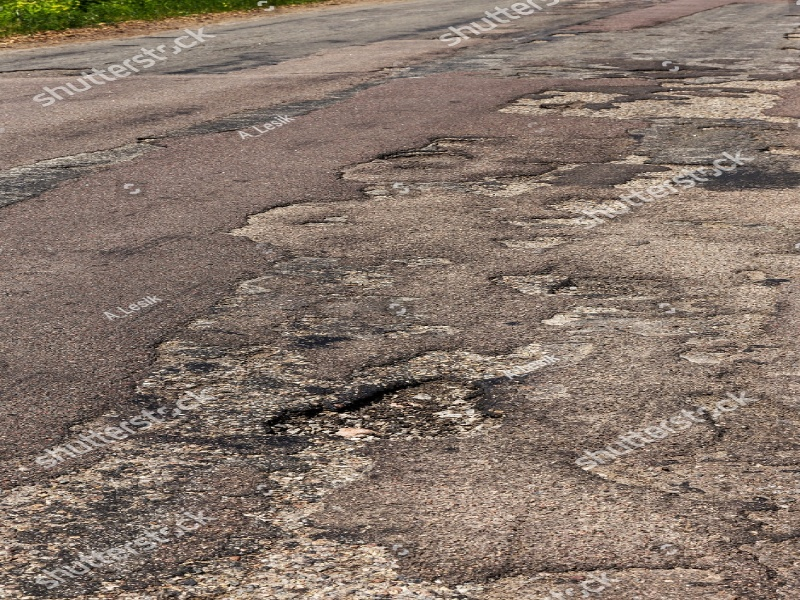pothole: (256, 372, 503, 445), (381, 137, 474, 165), (530, 275, 588, 302), (290, 334, 349, 354)
